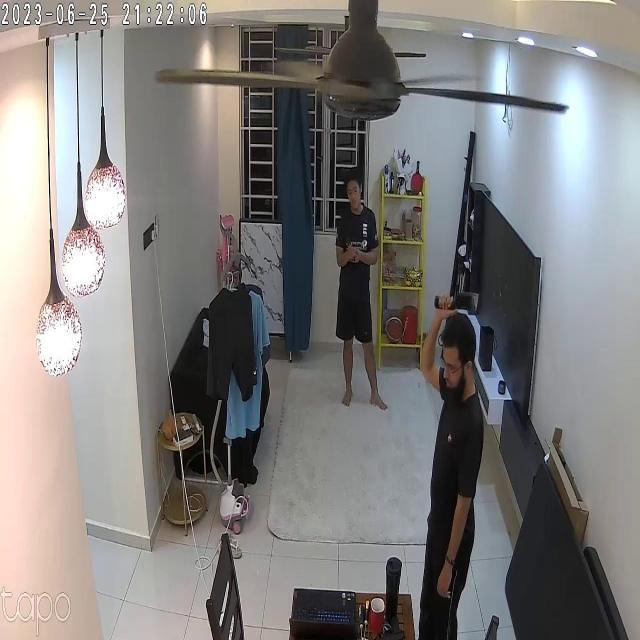Knife: (425, 280, 489, 318)
